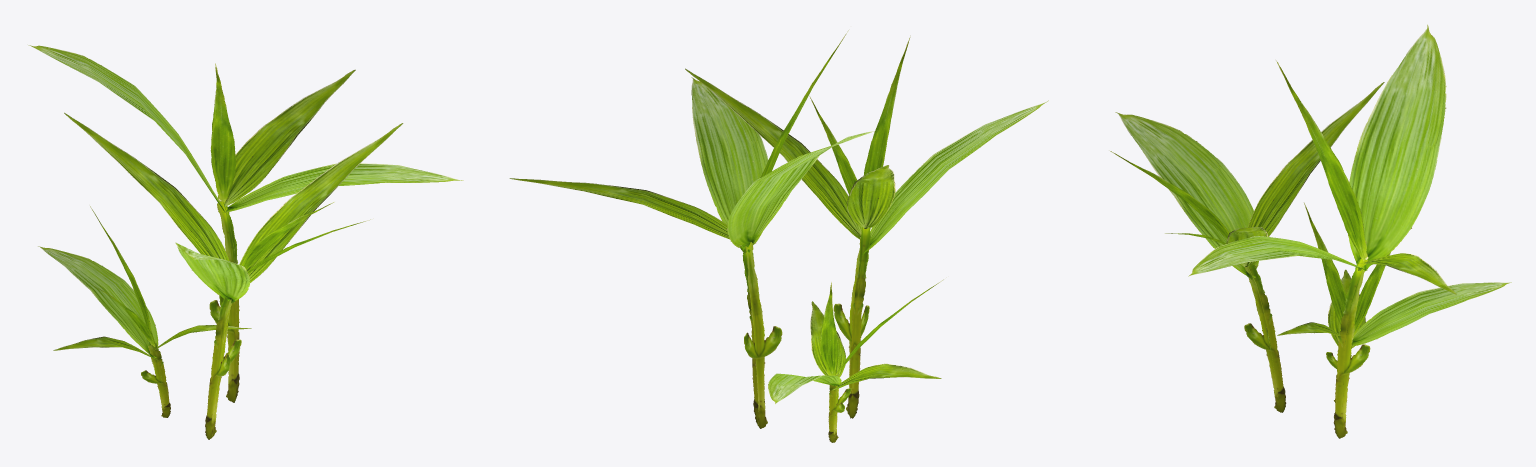
Rendered from m_grass_37.fbx.
3 renders of one model, left to right at view 1: azimuth 30°, elevation 25°; view 2: azimuth 150°, elevation 25°; view 3: azimuth 270°, elevation 25°, orthographic. The views are drawn at different scales.
Visible parts, largest first — view 1: mesh_grass_37_LOD0; view 2: mesh_grass_37_LOD0; view 3: mesh_grass_37_LOD0.
Part boxes in pixels (x1,y1,x2,y2): mesh_grass_37_LOD0: (28,45,463,439); mesh_grass_37_LOD0: (509,30,1048,442); mesh_grass_37_LOD0: (1109,24,1511,438).
Size of what is drawn, in the model's own units: 0.7428 by 0.7193 by 0.7648.
